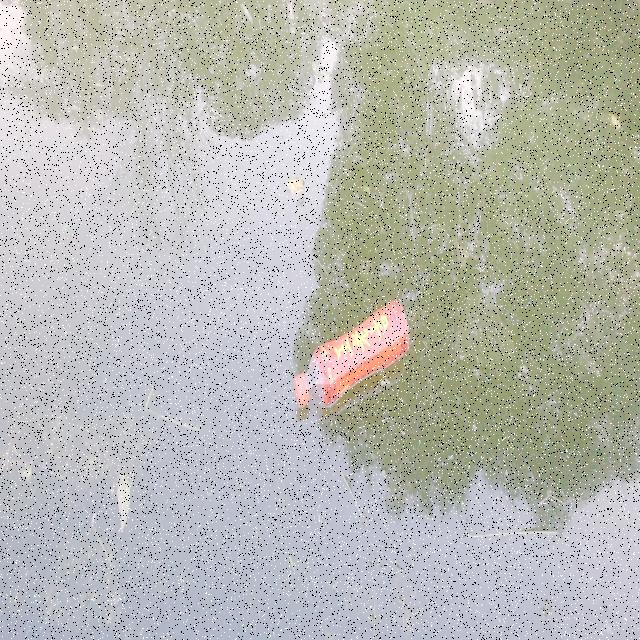Bottle: (290, 292, 410, 411)
